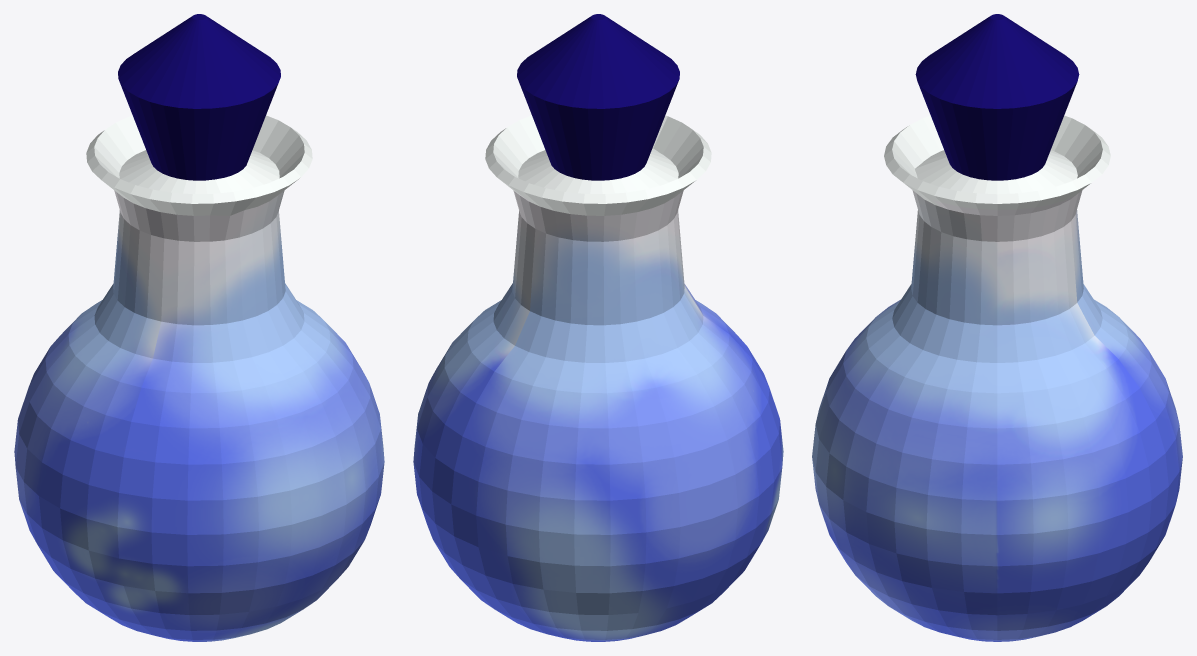
The model's file is potionbottle.fbx.
3 views of the same model, side by side, from view 1: azimuth 30°, elevation 25°; view 2: azimuth 150°, elevation 25°; view 3: azimuth 270°, elevation 25° (orthographic).
Parts seen in each view (by area): view 1: Sphere; view 2: Sphere; view 3: Sphere.
Part boxes in pixels (box(x1,y1,x2,y2)): Sphere: box(14, 14, 384, 641); Sphere: box(413, 14, 783, 641); Sphere: box(812, 14, 1182, 641).
Size of the model in its own units: 278 by 502 by 278.
